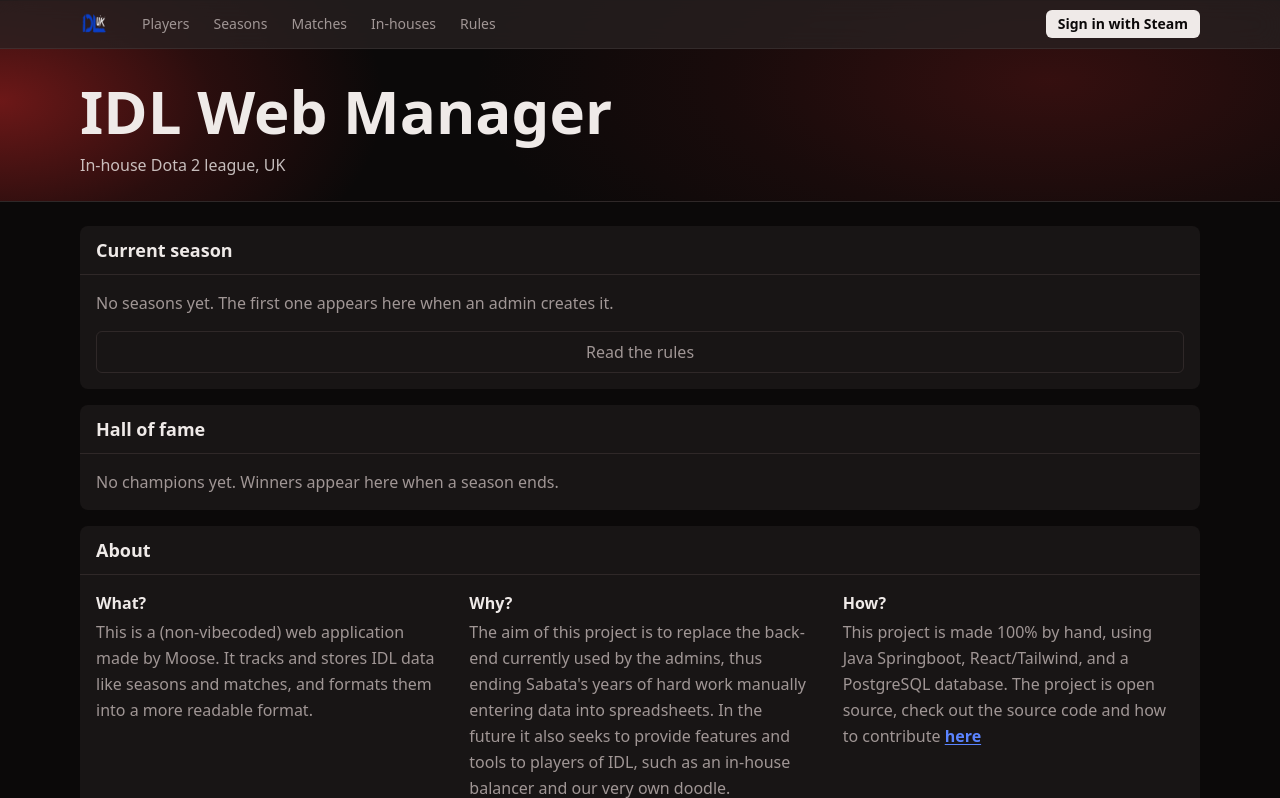
Test: opens the rules from the nav bar
This screenshot has width=1280, height=798.
Click the link "Rules" at (478, 24), box top-left (460, 14), bottom-right (496, 33)
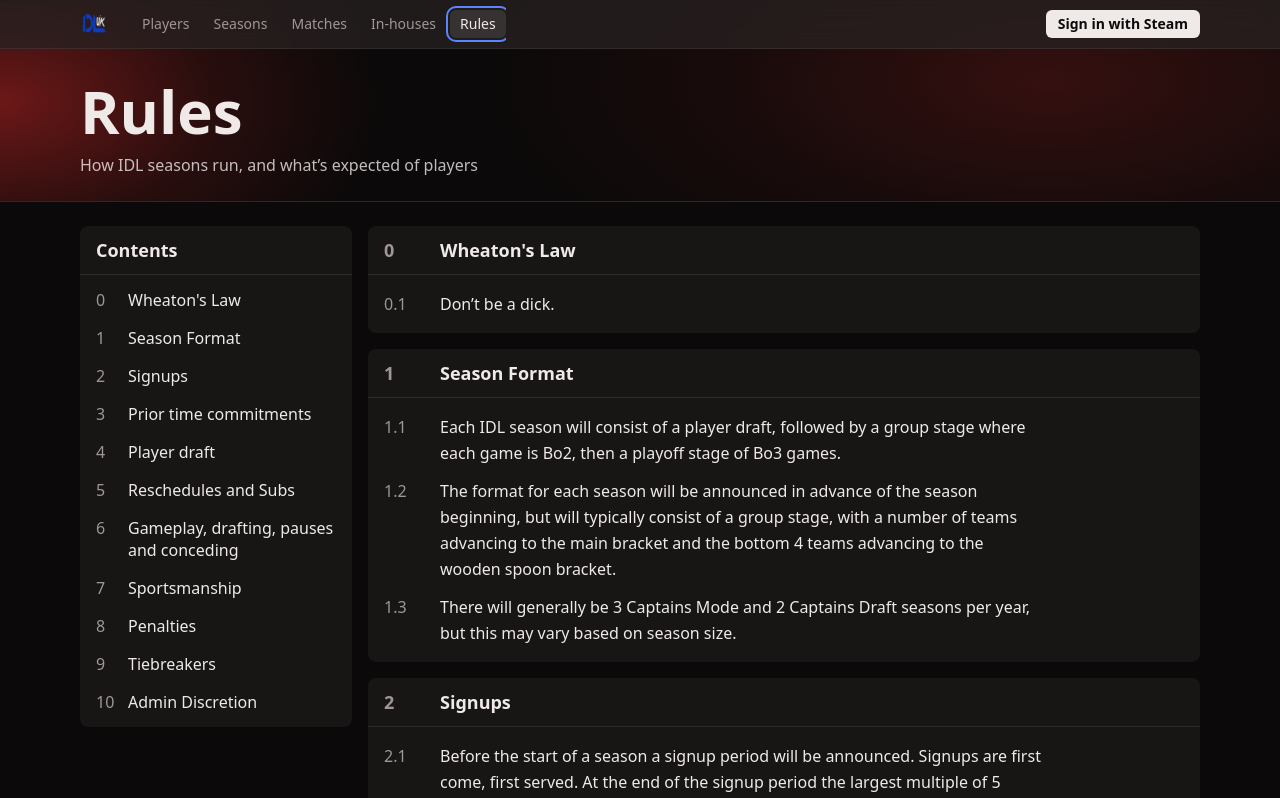
Check: the heading "Rules" is shown, box top-left (80, 70), bottom-right (243, 152)
